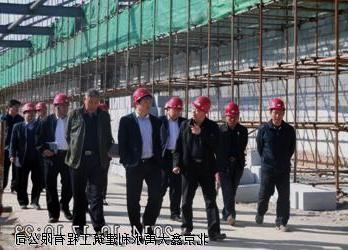no_helmet: (83, 84, 102, 113), (5, 97, 19, 118)
